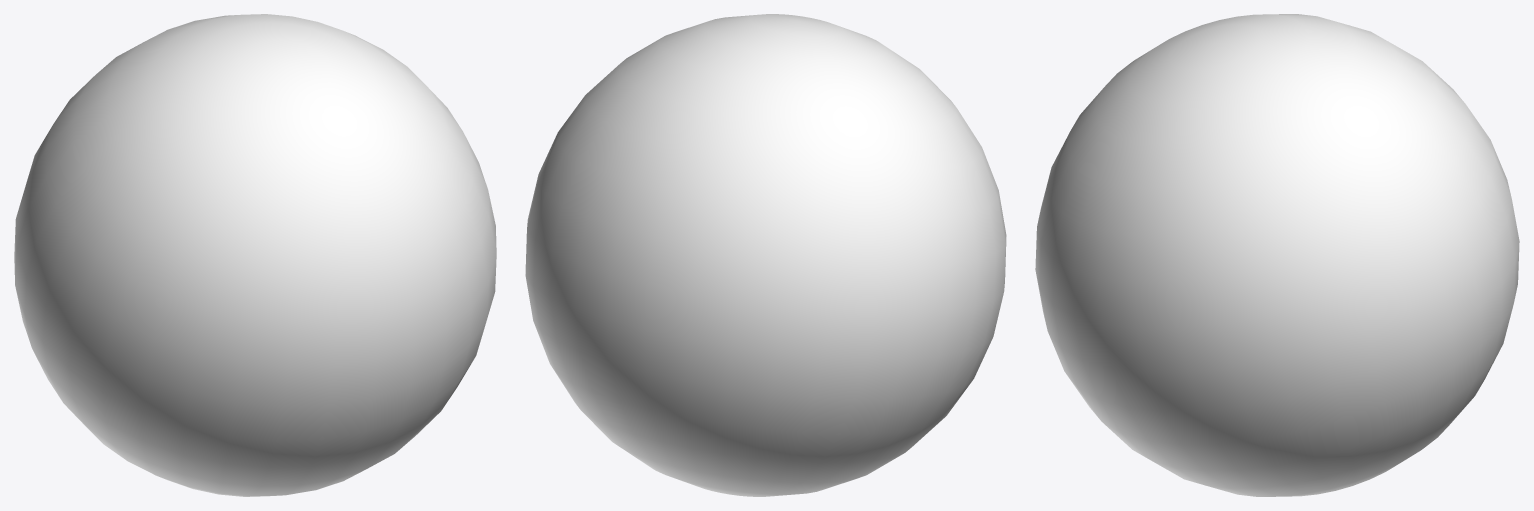
Rendered from hello_world_.glb.
The picture shows the model from 3 angles, left to right: view 1: azimuth 30°, elevation 25°; view 2: azimuth 150°, elevation 25°; view 3: azimuth 270°, elevation 25°; orthographic projection.
Parts seen in each view (by area): view 1: Sphere002; view 2: Sphere002; view 3: Sphere002.
Part boxes in pixels (x1=…): Sphere002: x1=14, y1=14, x2=496, y2=496; Sphere002: x1=525, y1=14, x2=1006, y2=496; Sphere002: x1=1035, y1=14, x2=1519, y2=496.
Bounding box in the file's own units: 189 × 188 × 188.
Materials: 2 (2 with a texture image).
